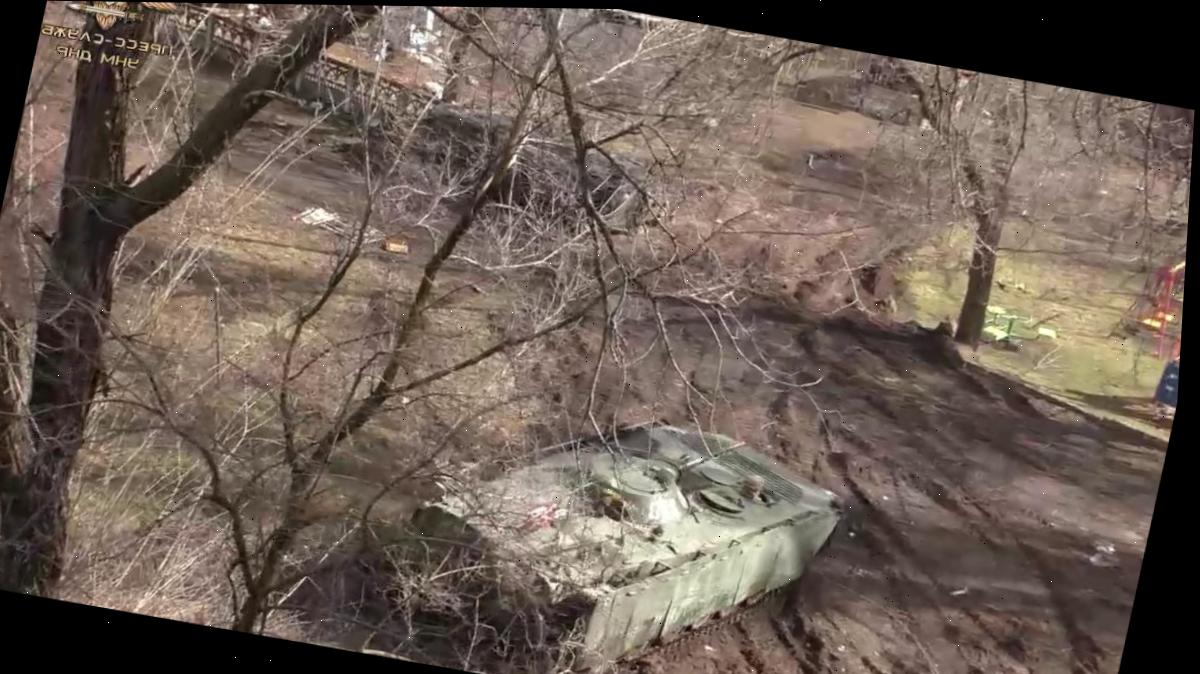tank: (379, 376, 857, 674)
